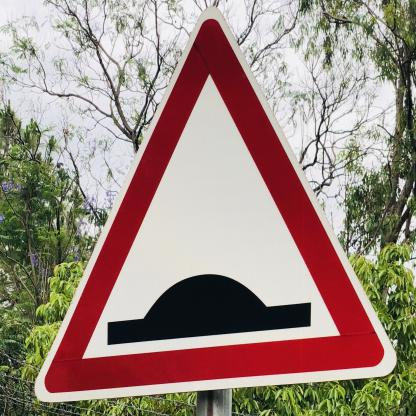Speed Breaker Ahead: (33, 3, 399, 402)
